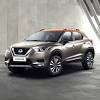Nissan: (6, 24, 94, 74)
